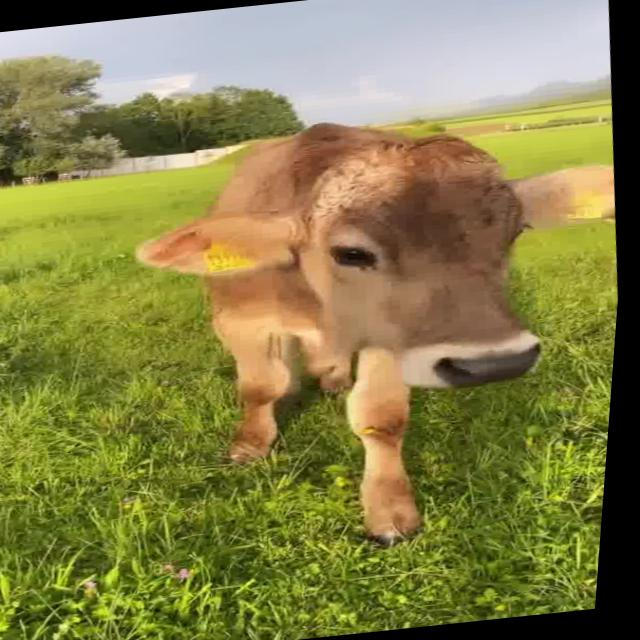cowFace: (107, 113, 633, 393)
